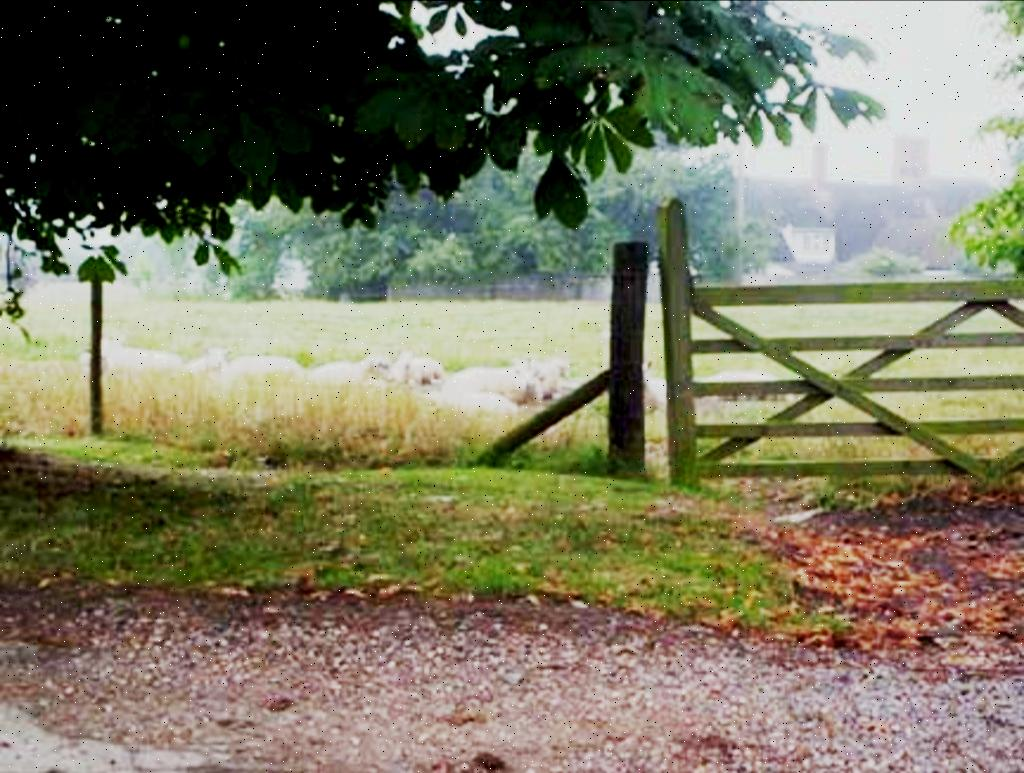Sheep: (442, 358, 544, 394), (96, 336, 178, 376), (306, 346, 392, 384), (182, 336, 234, 376), (394, 346, 444, 382)
